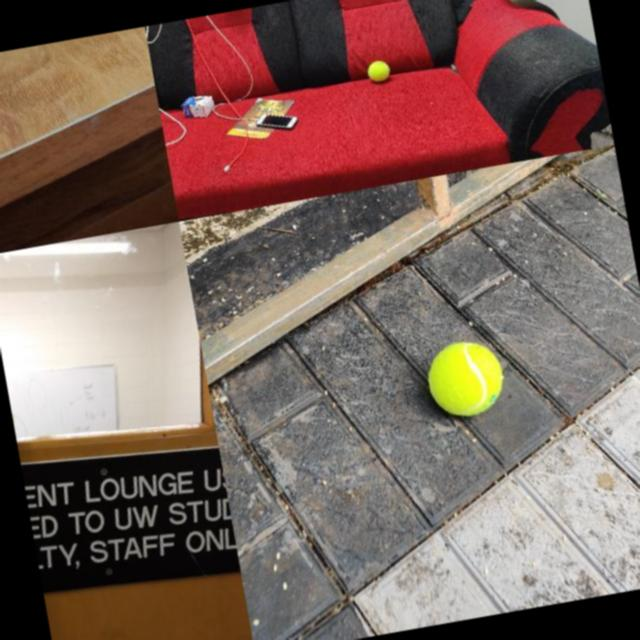tennis-ball: (422, 334, 508, 422), (365, 58, 390, 83)
